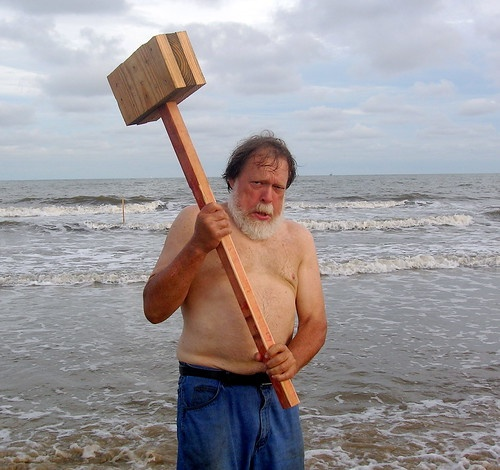hammer: (106, 29, 307, 409)
